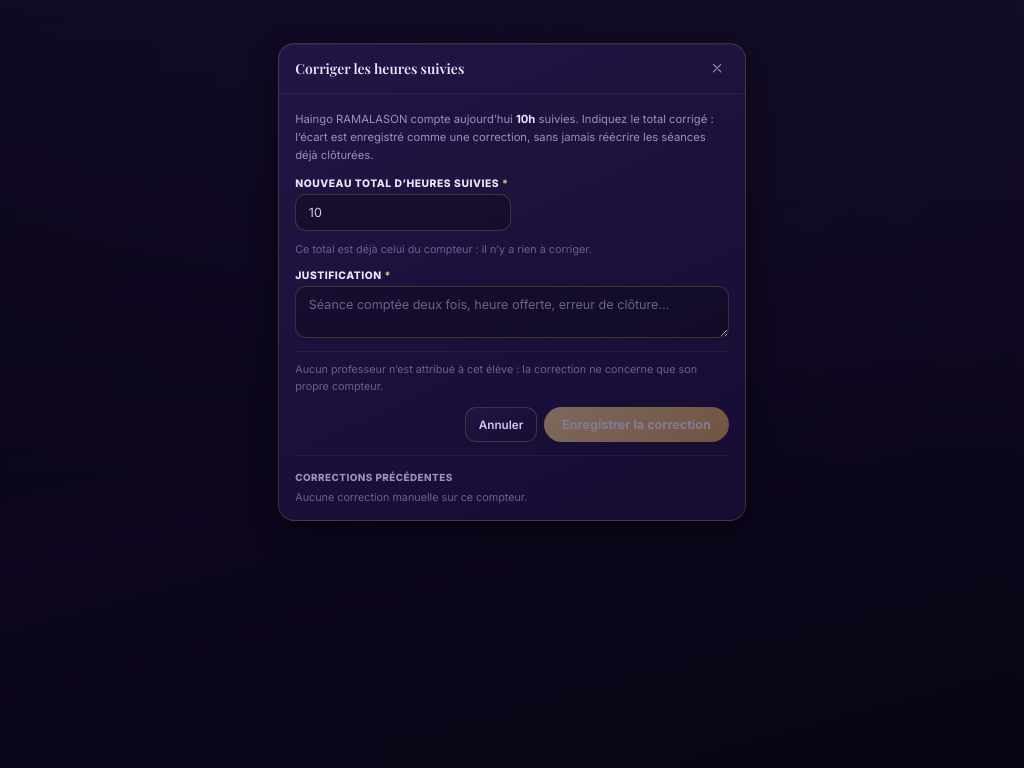
AjusterHeuresModale › annonce l’écart à l’écran avant de valider
Replace the text in the number field labelled "Nouveau total d’heures suivies *" with "12.5" at (403,212), box top-left (295, 194), bottom-right (511, 231)
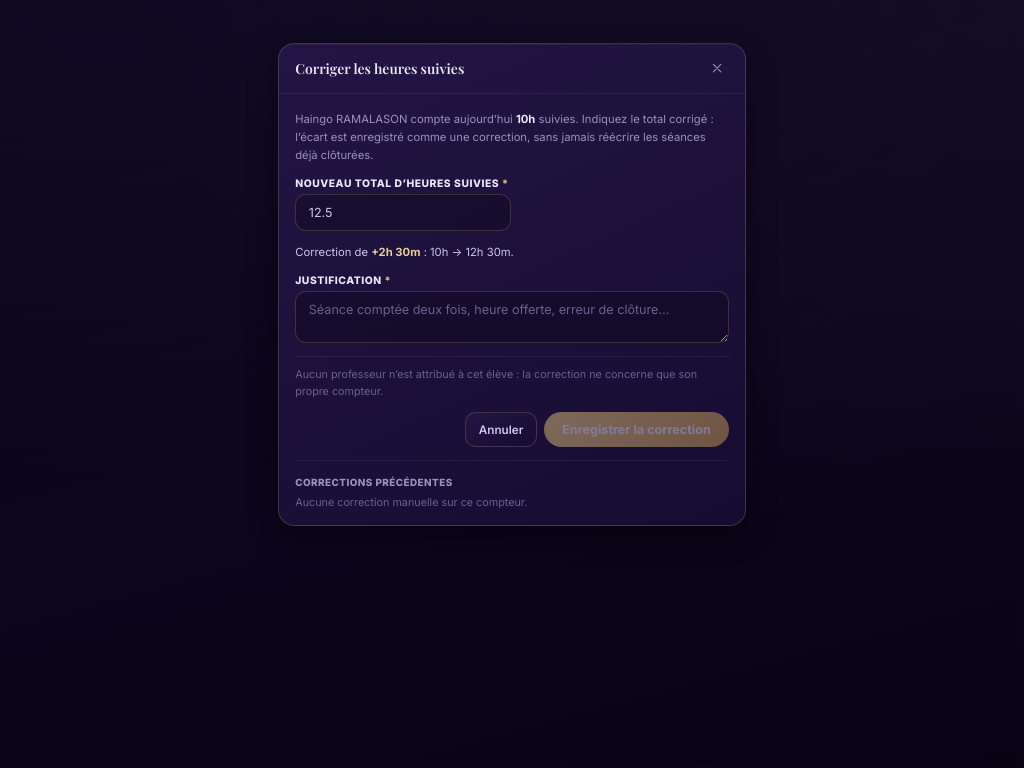
Expected: the text "Correction de +2h 30m : 10h → 12h 30m." is shown, top-left (295, 245), bottom-right (514, 259)
